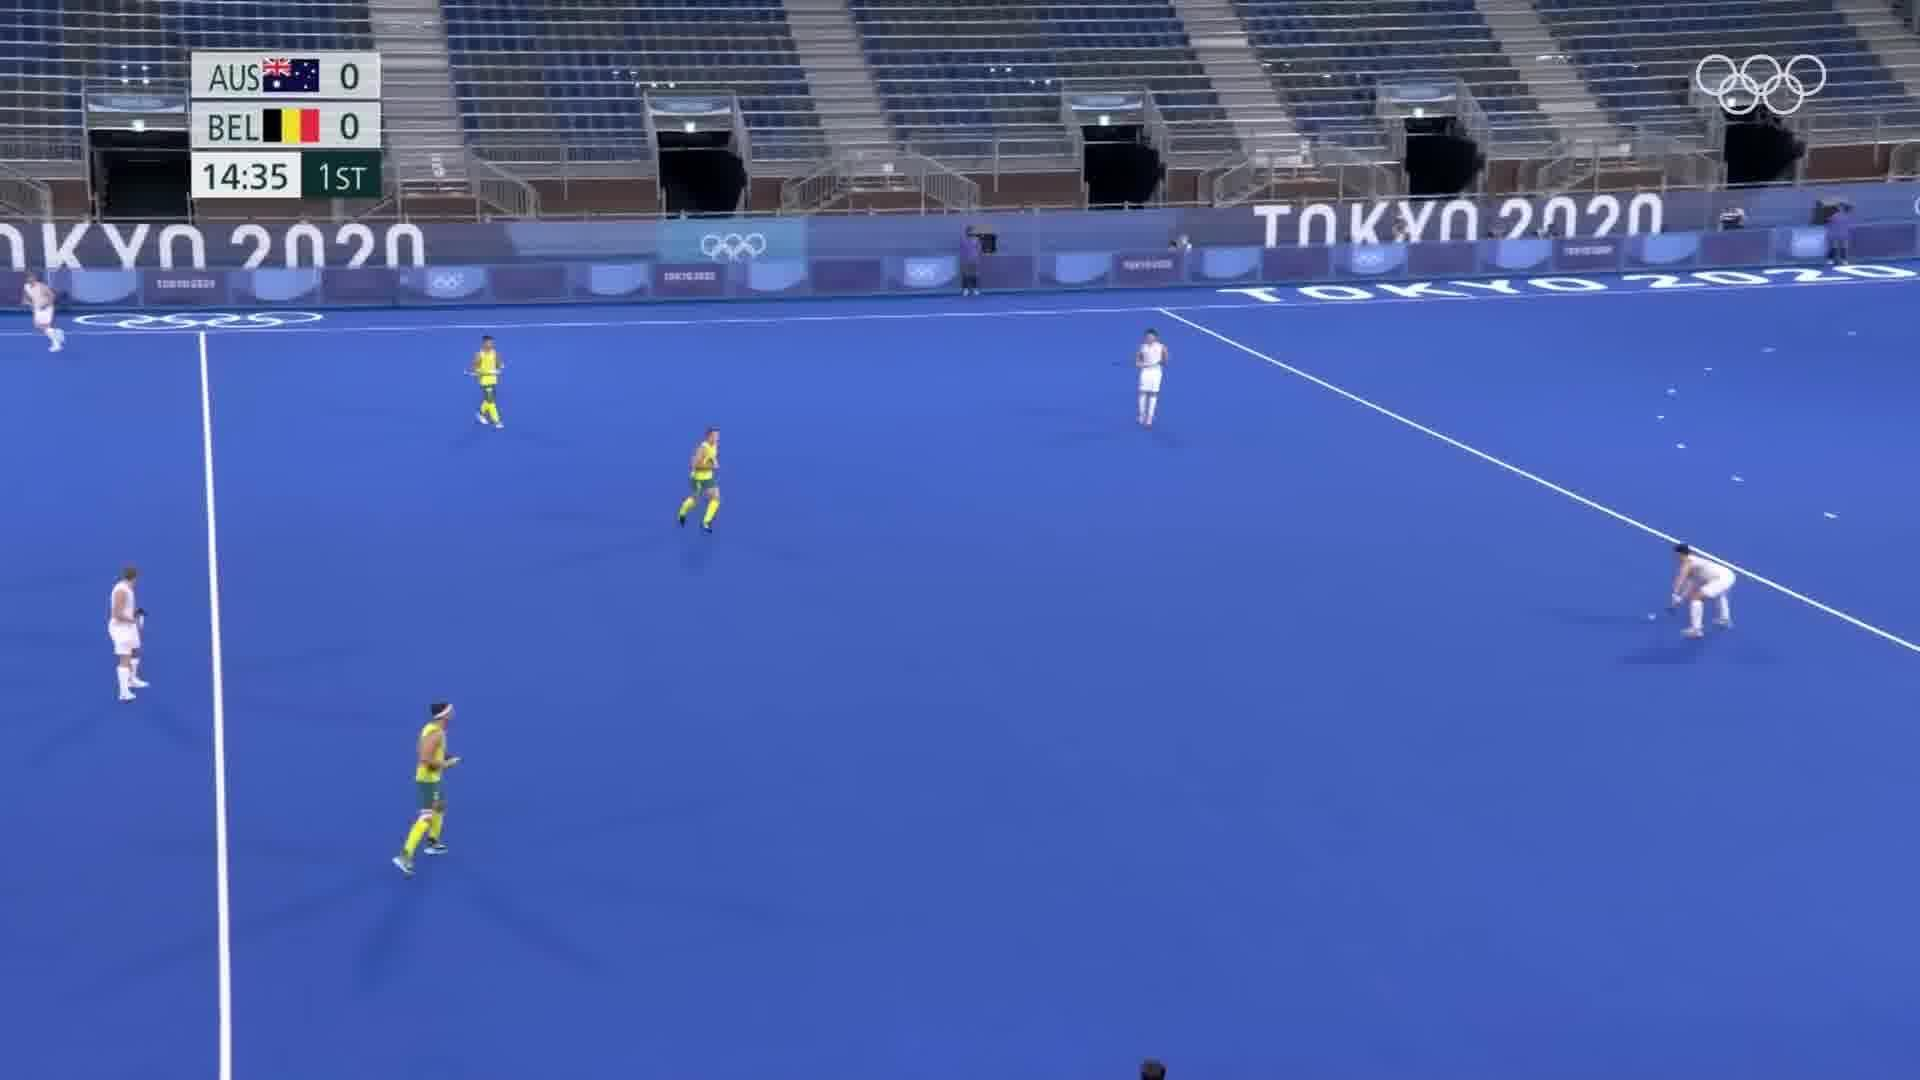ball: (1631, 601, 1669, 629)
